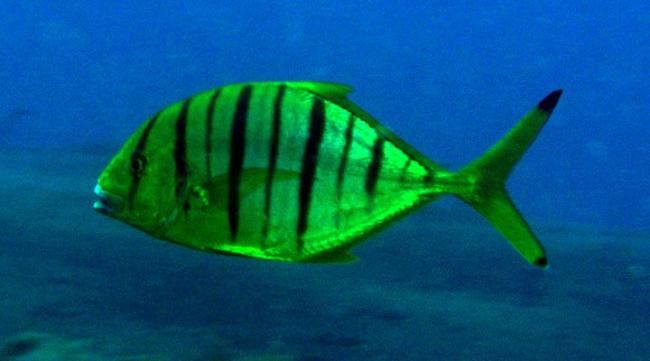fish: (92, 79, 565, 271)
